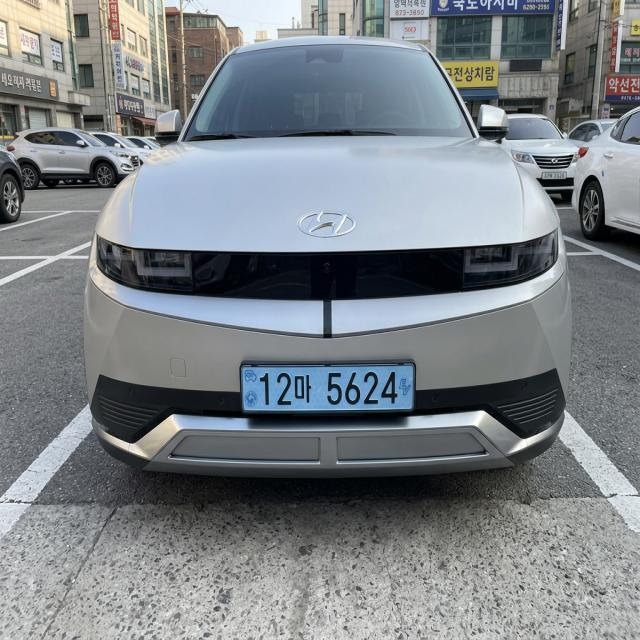car: (215, 350, 440, 427)
carev: (395, 361, 417, 413), (241, 364, 260, 414)
